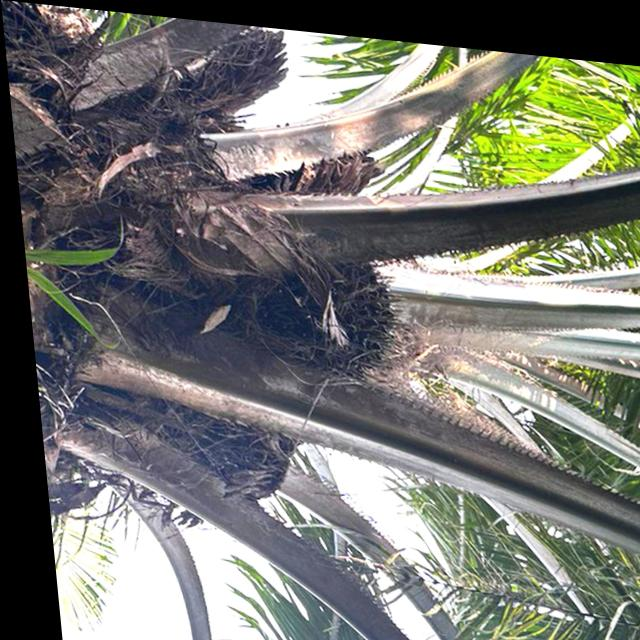ripe: (232, 228, 415, 392)
